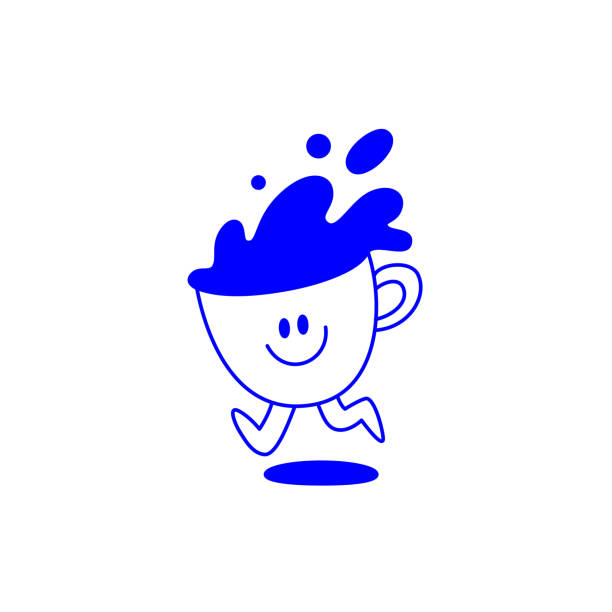cup: (23, 23, 579, 612)
